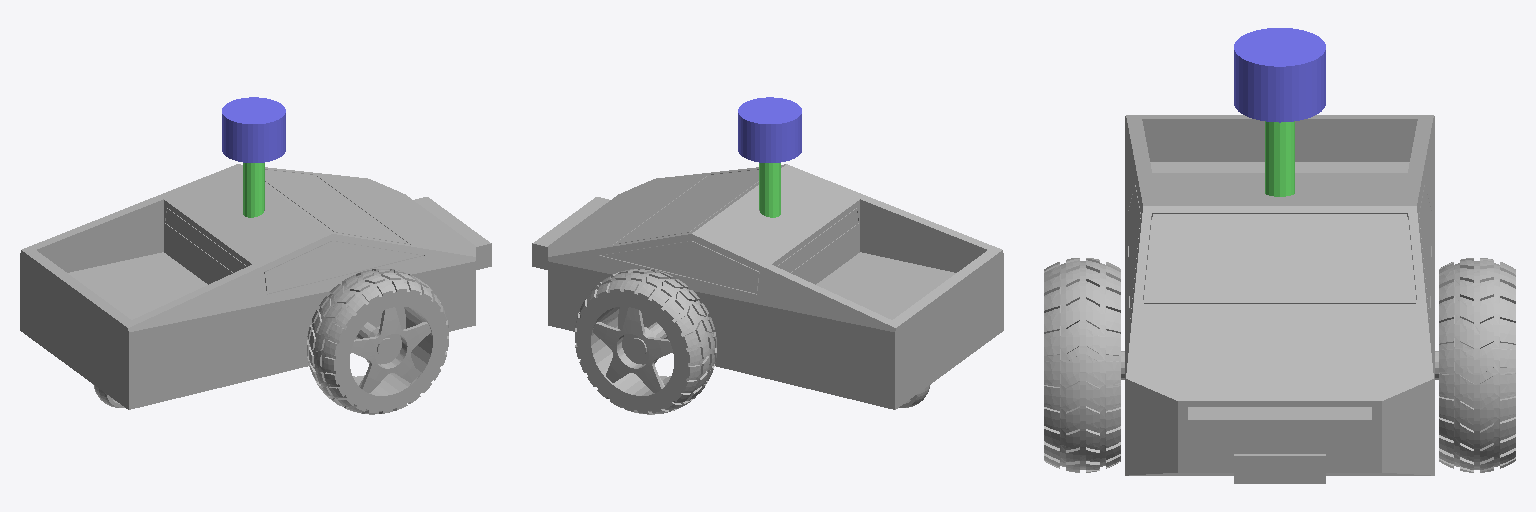
URDF robot description (car_sim):
<?xml version="1.0" encoding="utf-8"?>
<!-- This URDF was automatically created by SolidWorks to URDF Exporter! Originally created by [author] ([email redacted]) 
     Commit Version: 1.5.1-0-g916b5db  Build Version: 1.5.7152.31018
     For more information, please see http://wiki.ros.org/sw_urdf_exporter -->
<robot
  name="car_sim">
  <link
    name="base_link">
    <inertial>
      <origin
        xyz="-0.0224728885923136 1.27425469459951E-06 0.0472580562389892"
        rpy="0 0 0" />
      <mass
        value="0.829481223640528" />
      <inertia
        ixx="0.0009054495669054"
        ixy="8.44074331506777E-08"
        ixz="-6.71408249405037E-05"
        iyy="0.00240223972189565"
        iyz="3.69762089732741E-08"
        izz="0.00292549483842529" />
    </inertial>
    <visual>
      <origin
        xyz="0 0 0"
        rpy="0 0 0" />
      <geometry>
        <mesh
          filename="package://car_sim/meshes/base_link.STL" />
      </geometry>
      <material
        name="">
        <color
          rgba="0.752941176470588 0.752941176470588 0.752941176470588 1" />
      </material>
    </visual>
    <collision>
      <origin
        xyz="0 0 0"
        rpy="0 0 0" />
      <geometry>
        <mesh
          filename="package://car_sim/meshes/base_link.STL" />
      </geometry>
    </collision>
  </link>
  <link
    name="right_wheel">
    <inertial>
      <origin
        xyz="4.31437004178026E-13 0.00784312603299509 4.24278667754407E-13"
        rpy="0 0 0" />
      <mass
        value="0.0511503917691667" />
      <inertia
        ixx="2.19990579138419E-05"
        ixy="1.3165501060462E-16"
        ixz="1.99639528395629E-18"
        iyy="3.89734768739138E-05"
        iyz="6.81870838822919E-16"
        izz="2.19987364113652E-05" />
    </inertial>
    <visual>
      <origin
        xyz="0 0 0"
        rpy="0 0 0" />
      <geometry>
        <mesh
          filename="package://car_sim/meshes/right_wheel.STL" />
      </geometry>
      <material
        name="">
        <color
          rgba="0.752941176470588 0.752941176470588 0.752941176470588 1" />
      </material>
    </visual>
    <collision>
      <origin
        xyz="0 0 0"
        rpy="0 0 0" />
      <geometry>
        <mesh
          filename="package://car_sim/meshes/right_wheel.STL" />
      </geometry>
    </collision>
  </link>
  <joint
    name="base_r_wheel_joint"
    type="continuous">
    <origin
      xyz="0 -0.0722 0.034893039656296"
      rpy="0 0 0" />
    <parent
      link="base_link" />
    <child
      link="right_wheel" />
    <axis
      xyz="0 1 0" />
  </joint>
  <link
    name="support">
    <inertial>
      <origin
        xyz="1.52655665885959E-16 -1.73472347597681E-18 0.04"
        rpy="0 0 0" />
      <mass
        value="0.00628318530717959" />
      <inertia
        ixx="3.39030207199899E-06"
        ixy="3.13465160219317E-38"
        ixz="-1.17009460541534E-20"
        iyy="3.39030207199899E-06"
        iyz="-1.59105471050738E-35"
        izz="7.85398163397449E-08" />
    </inertial>
    <visual>
      <origin
        xyz="0 0 0"
        rpy="0 0 0" />
      <geometry>
        <mesh
          filename="package://car_sim/meshes/support.STL" />
      </geometry>
      <material
        name="">
        <color
          rgba="0.501960784313725 1 0.501960784313725 1" />
      </material>
    </visual>
    <collision>
      <origin
        xyz="0 0 0"
        rpy="0 0 0" />
      <geometry>
        <mesh
          filename="package://car_sim/meshes/support.STL" />
      </geometry>
    </collision>
  </link>
  <joint
    name="suppor2base"
    type="fixed">
    <origin
      xyz="-0.03 0 0.0348930396562961"
      rpy="0 0 0" />
    <parent
      link="base_link" />
    <child
      link="support" />
    <axis
      xyz="0 0 0" />
  </joint>
  <link
    name="laser">
    <inertial>
      <origin
        xyz="3.46944695195361E-17 1.73472347597681E-18 0.01"
        rpy="0 0 0" />
      <mass
        value="0.0141371669411541" />
      <inertia
        ixx="1.26645453847839E-06"
        ixy="-2.50772128175425E-37"
        ixz="1.1462049430025E-21"
        iyy="1.26645453847839E-06"
        iyz="7.43526531340992E-36"
        izz="1.59043128087983E-06" />
    </inertial>
    <visual>
      <origin
        xyz="0 0 0"
        rpy="0 0 0" />
      <geometry>
        <mesh
          filename="package://car_sim/meshes/laser.STL" />
      </geometry>
      <material
        name="">
        <color
          rgba="0.501960784313725 0.501960784313725 1 1" />
      </material>
    </visual>
    <collision>
      <origin
        xyz="0 0 0"
        rpy="0 0 0" />
      <geometry>
        <mesh
          filename="package://car_sim/meshes/laser.STL" />
      </geometry>
    </collision>
  </link>
  <joint
    name="laser2support"
    type="fixed">
    <origin
      xyz="0 0 0.08"
      rpy="0 0 0" />
    <parent
      link="support" />
    <child
      link="laser" />
    <axis
      xyz="0 0 0" />
  </joint>
  <link
    name="left_wheel">
    <inertial>
      <origin
        xyz="-4.31387130878091E-13 -0.00784312603299506 4.24289076095263E-13"
        rpy="0 0 0" />
      <mass
        value="0.0511503917691667" />
      <inertia
        ixx="2.1999057913842E-05"
        ixy="1.31578920388607E-16"
        ixz="-2.007107256165E-18"
        iyy="3.89734768739138E-05"
        iyz="-6.81855529115342E-16"
        izz="2.19987364113653E-05" />
    </inertial>
    <visual>
      <origin
        xyz="0 0 0"
        rpy="0 0 0" />
      <geometry>
        <mesh
          filename="package://car_sim/meshes/left_wheel.STL" />
      </geometry>
      <material
        name="">
        <color
          rgba="0.752941176470588 0.752941176470588 0.752941176470588 1" />
      </material>
    </visual>
    <collision>
      <origin
        xyz="0 0 0"
        rpy="0 0 0" />
      <geometry>
        <mesh
          filename="package://car_sim/meshes/left_wheel.STL" />
      </geometry>
    </collision>
  </link>
  <joint
    name="base_l_wheel_joint"
    type="continuous">
    <origin
      xyz="0 0.0722 0.034893039656296"
      rpy="0 0 0" />
    <parent
      link="base_link" />
    <child
      link="left_wheel" />
    <axis
      xyz="0 1 0" />
  </joint>
  <link
    name="kinect">
    <inertial>
      <origin
        xyz="-0.00500000000000002 -1.90819582357449E-17 1.66967134562768E-17"
        rpy="0 0 0" />
      <mass
        value="0.00719999999999999" />
      <inertia
        ixx="2.2464E-06"
        ixy="7.25862132107059E-21"
        ixz="-1.24479524799473E-22"
        iyy="1.464E-07"
        iyz="-7.49500958026638E-23"
        izz="2.22E-06" />
    </inertial>
    <visual>
      <origin
        xyz="0 0 0"
        rpy="0 0 0" />
      <geometry>
        <mesh
          filename="package://car_sim/meshes/kinect.STL" />
      </geometry>
      <material
        name="">
        <color
          rgba="0.752941176470588 0.752941176470588 0.752941176470588 1" />
      </material>
    </visual>
    <collision>
      <origin
        xyz="0 0 0"
        rpy="0 0 0" />
      <geometry>
        <mesh
          filename="package://car_sim/meshes/kinect.STL" />
      </geometry>
    </collision>
  </link>
  <joint
    name="kinect2base"
    type="fixed">
    <origin
      xyz="0.0808000000000001 0 0.0468930396562957"
      rpy="0 0 0" />
    <parent
      link="base_link" />
    <child
      link="kinect" />
    <axis
      xyz="0 0 0" />
  </joint>
  <link
    name="camera">
    <inertial>
      <origin
        xyz="-0.00499999999999999 -2.08166817117217E-17 1.90819582357449E-17"
        rpy="0 0 0" />
      <mass
        value="0.003" />
      <inertia
        ixx="2.5E-07"
        ixy="7.52918180746962E-22"
        ixz="1.57782553425762E-23"
        iyy="4.99999999999999E-08"
        iyz="-6.6089383550409E-24"
        izz="2.5E-07" />
    </inertial>
    <visual>
      <origin
        xyz="0 0 0"
        rpy="0 0 0" />
      <geometry>
        <mesh
          filename="package://car_sim/meshes/camera.STL" />
      </geometry>
      <material
        name="">
        <color
          rgba="0.752941176470588 0.752941176470588 0.752941176470588 1" />
      </material>
    </visual>
    <collision>
      <origin
        xyz="0 0 0"
        rpy="0 0 0" />
      <geometry>
        <mesh
          filename="package://car_sim/meshes/camera.STL" />
      </geometry>
    </collision>
  </link>
  <joint
    name="camera2base"
    type="fixed">
    <origin
      xyz="0.0808 0 0.0348930396562957"
      rpy="0 0 0" />
    <parent
      link="base_link" />
    <child
      link="camera" />
    <axis
      xyz="0 0 0" />
  </joint>
      <!-- 添加点云坐标系kinect连杆坐标系的变换 -->
  <link name="kinect_link_fake"></link>
  <joint name="kincect_joint_fake" type="fixed">
    <origin xyz="0 0 0" rpy="-1.5708 0 -1.5708 "/>
    <parent link="kinect"/>
    <child link="kinect_link_fake"/>
  </joint>

</robot>

--- Facts derived from the render (not from the file) ---
The picture shows the robot from 3 angles, left to right: view 1: azimuth 30°, elevation 25°; view 2: azimuth 150°, elevation 25°; view 3: azimuth 270°, elevation 25°; orthographic projection.
Model car_sim with 8 links and 7 joints (2 continuous, 5 fixed), rooted at base_link, posed every joint at zero.
Links seen in each view (by area): view 1: base_link, right_wheel, laser, kinect, support; view 2: base_link, left_wheel, laser, kinect, support; view 3: base_link, right_wheel, left_wheel, kinect, laser, camera, support.
Boxes of the visible links, x1,y1,x2,y2 form: base_link: [20, 164, 475, 409]; right_wheel: [307, 269, 448, 414]; laser: [222, 97, 285, 162]; kinect: [414, 197, 491, 269]; support: [243, 163, 264, 217]; base_link: [548, 164, 1003, 409]; left_wheel: [575, 269, 716, 414]; laser: [738, 97, 801, 162]; kinect: [532, 197, 609, 269]; support: [759, 163, 780, 217]; base_link: [1125, 115, 1434, 475]; right_wheel: [1044, 258, 1124, 472]; left_wheel: [1435, 258, 1515, 472]; kinect: [1188, 407, 1371, 453]; laser: [1234, 28, 1325, 122]; camera: [1234, 454, 1325, 483]; support: [1265, 121, 1294, 196].
Size in the robot's own frame: 0.2075 by 0.153 by 0.135 metres.
7 mesh visuals loaded from 7 distinct referenced files (7 binary STL).
